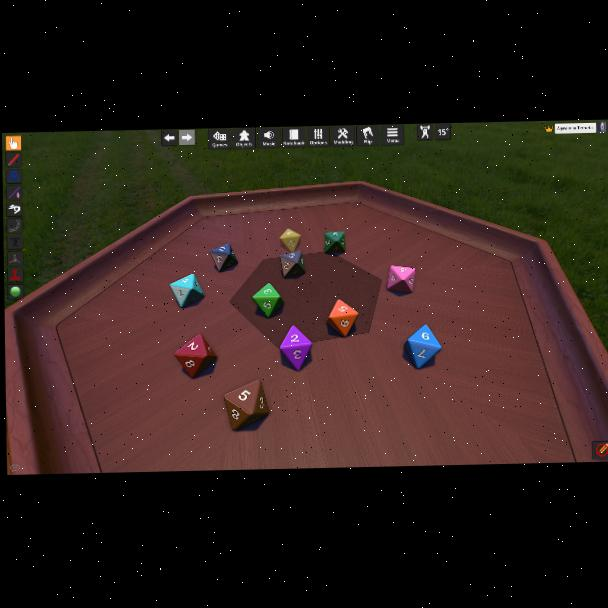d8: (223, 380, 269, 431), (174, 333, 217, 378), (404, 324, 440, 369), (280, 325, 313, 370), (170, 274, 205, 308), (252, 282, 283, 318), (327, 300, 357, 337), (210, 242, 238, 272), (387, 264, 414, 294), (279, 251, 305, 278), (279, 228, 300, 253), (323, 231, 344, 254)
